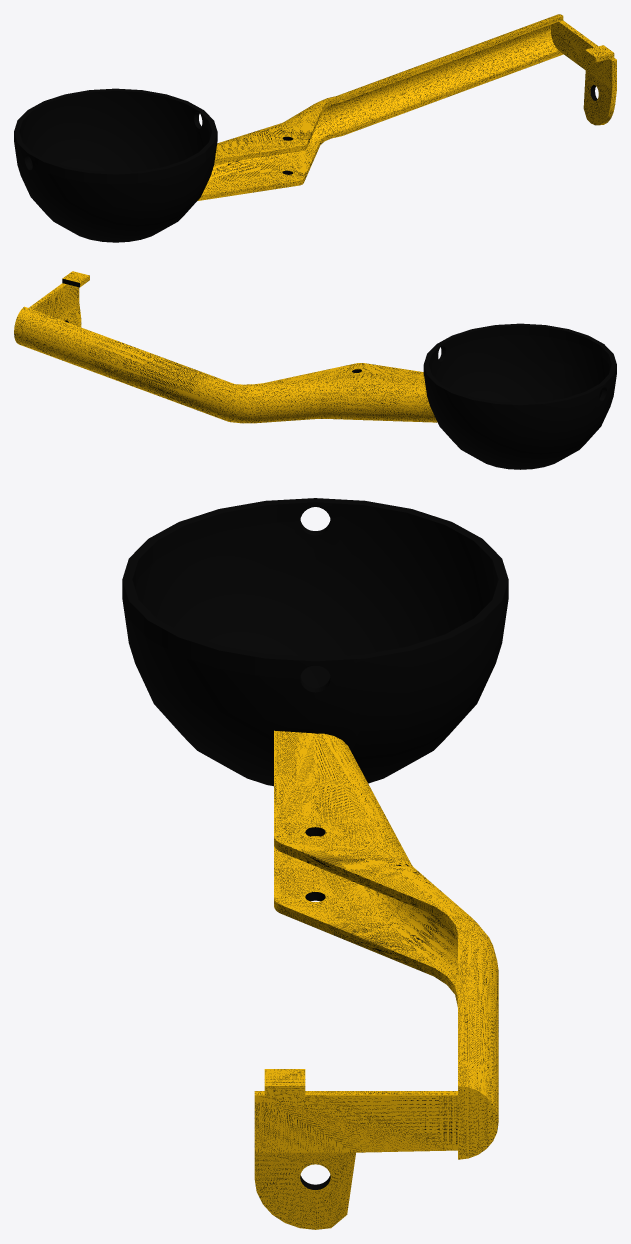
The model's file is scoop_02_origin_gt_1.dae.
3 renders of one model, top to bottom at view 1: azimuth 30°, elevation 25°; view 2: azimuth 150°, elevation 25°; view 3: azimuth 270°, elevation 25°, orthographic. The views are drawn at different scales.
Visible parts, largest first — view 1: Scoop_and_Arm (×2); view 2: Scoop_and_Arm (×2); view 3: Scoop_and_Arm (×2).
Part boxes in pixels (x1=…): Scoop_and_Arm (×2): x1=14, y1=14, x2=616, y2=242; Scoop_and_Arm (×2): x1=14, y1=271, x2=616, y2=469; Scoop_and_Arm (×2): x1=122, y1=498, x2=508, y2=1229.
Size of the model in its own units: 7.73 by 2.38 by 1.39.
